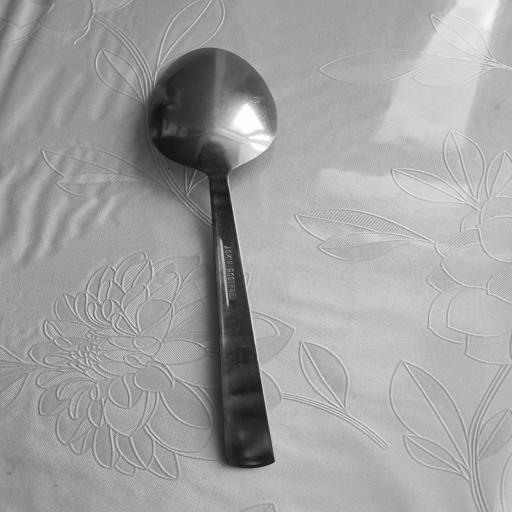spoon: (148, 47, 288, 474)
